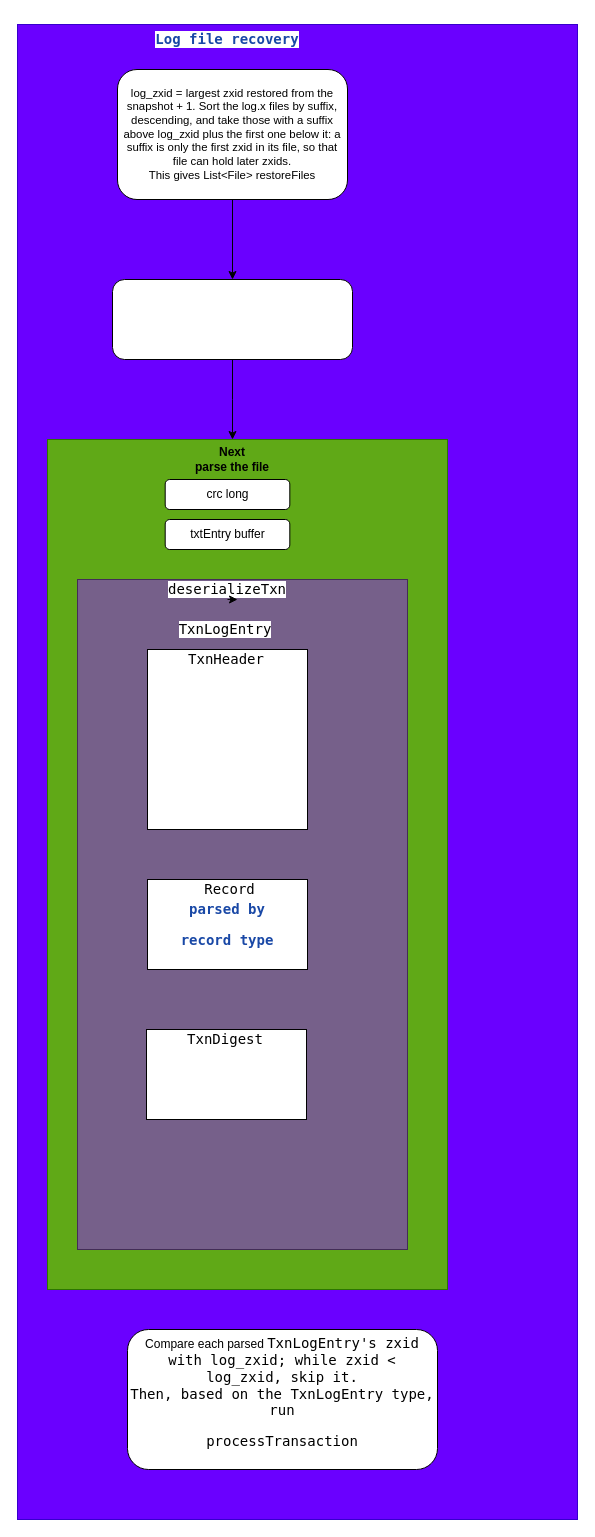
Image size: 595x1537. Some labels were removed from this diagram. Each missing label, with the box of its shape:
clientId long cxid int zxid long time long type int: (146, 648, 308, 830)
goToNextLog open a reader starting from the tail of restoreFiles: (112, 278, 352, 360)
version int treeDigest long: (146, 1028, 306, 1120)
